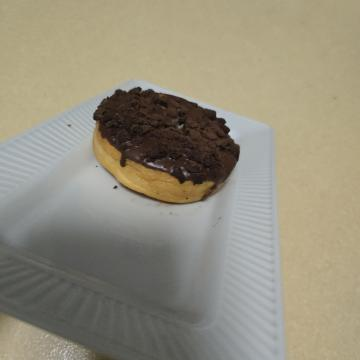doughnut: (72, 108, 214, 284)
